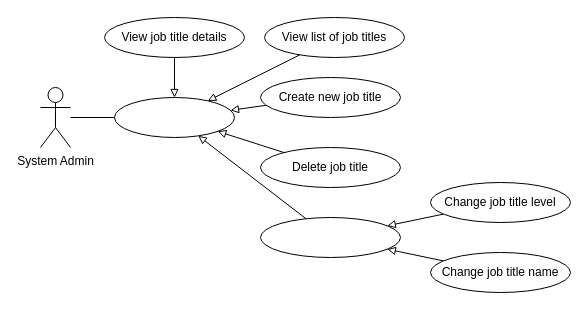
The diagram is 588 pixels wide and 310 high, and some of its shapes have lost their labels. The shapes that lost their labels are listed below. From the top down, each one's box as (x1, y1, x2, y2) in pixels, then its label:
(114, 96, 234, 138): Manage job titles
(260, 216, 400, 258): Edit job title
